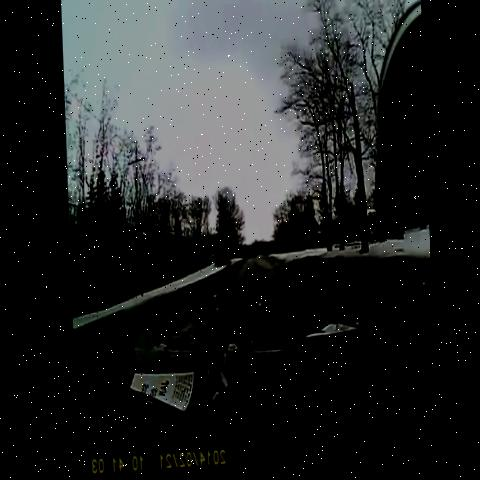pothole: (265, 285, 295, 337), (233, 304, 260, 340), (187, 312, 214, 342), (249, 258, 268, 285)
